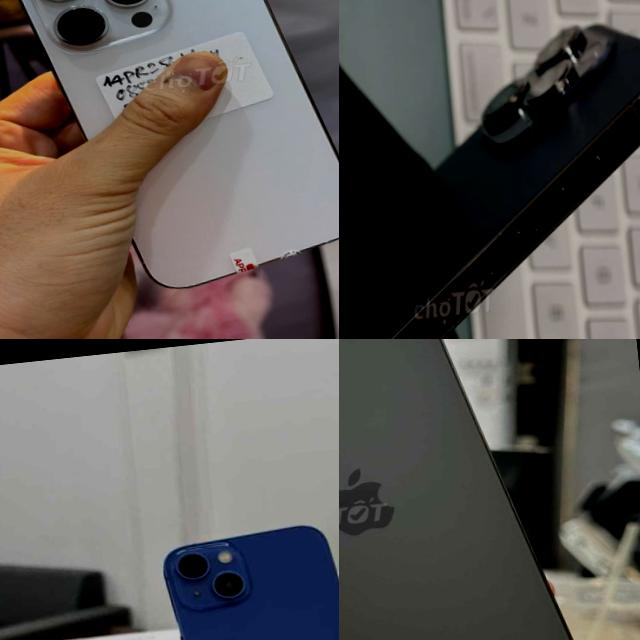gen_12_13: (155, 514, 339, 640)
gen_14: (5, 0, 339, 310), (339, 27, 640, 339)
gen_15: (339, 339, 605, 640)
